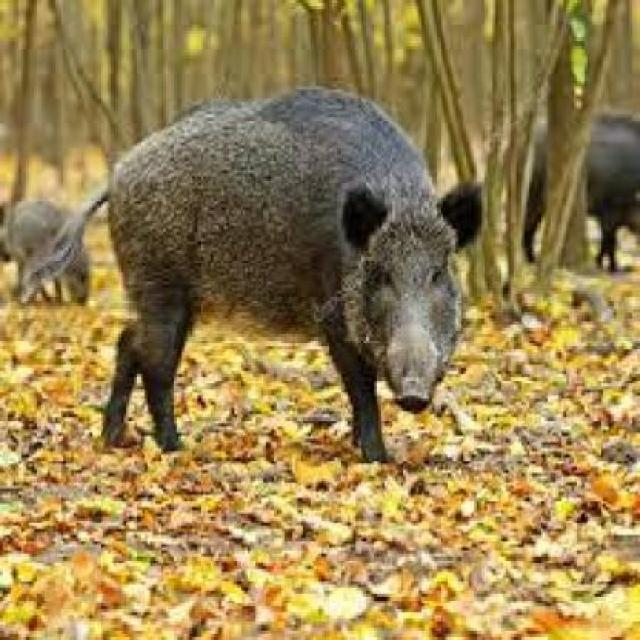wildboar: (34, 85, 486, 463), (498, 107, 640, 275), (0, 191, 94, 312)
